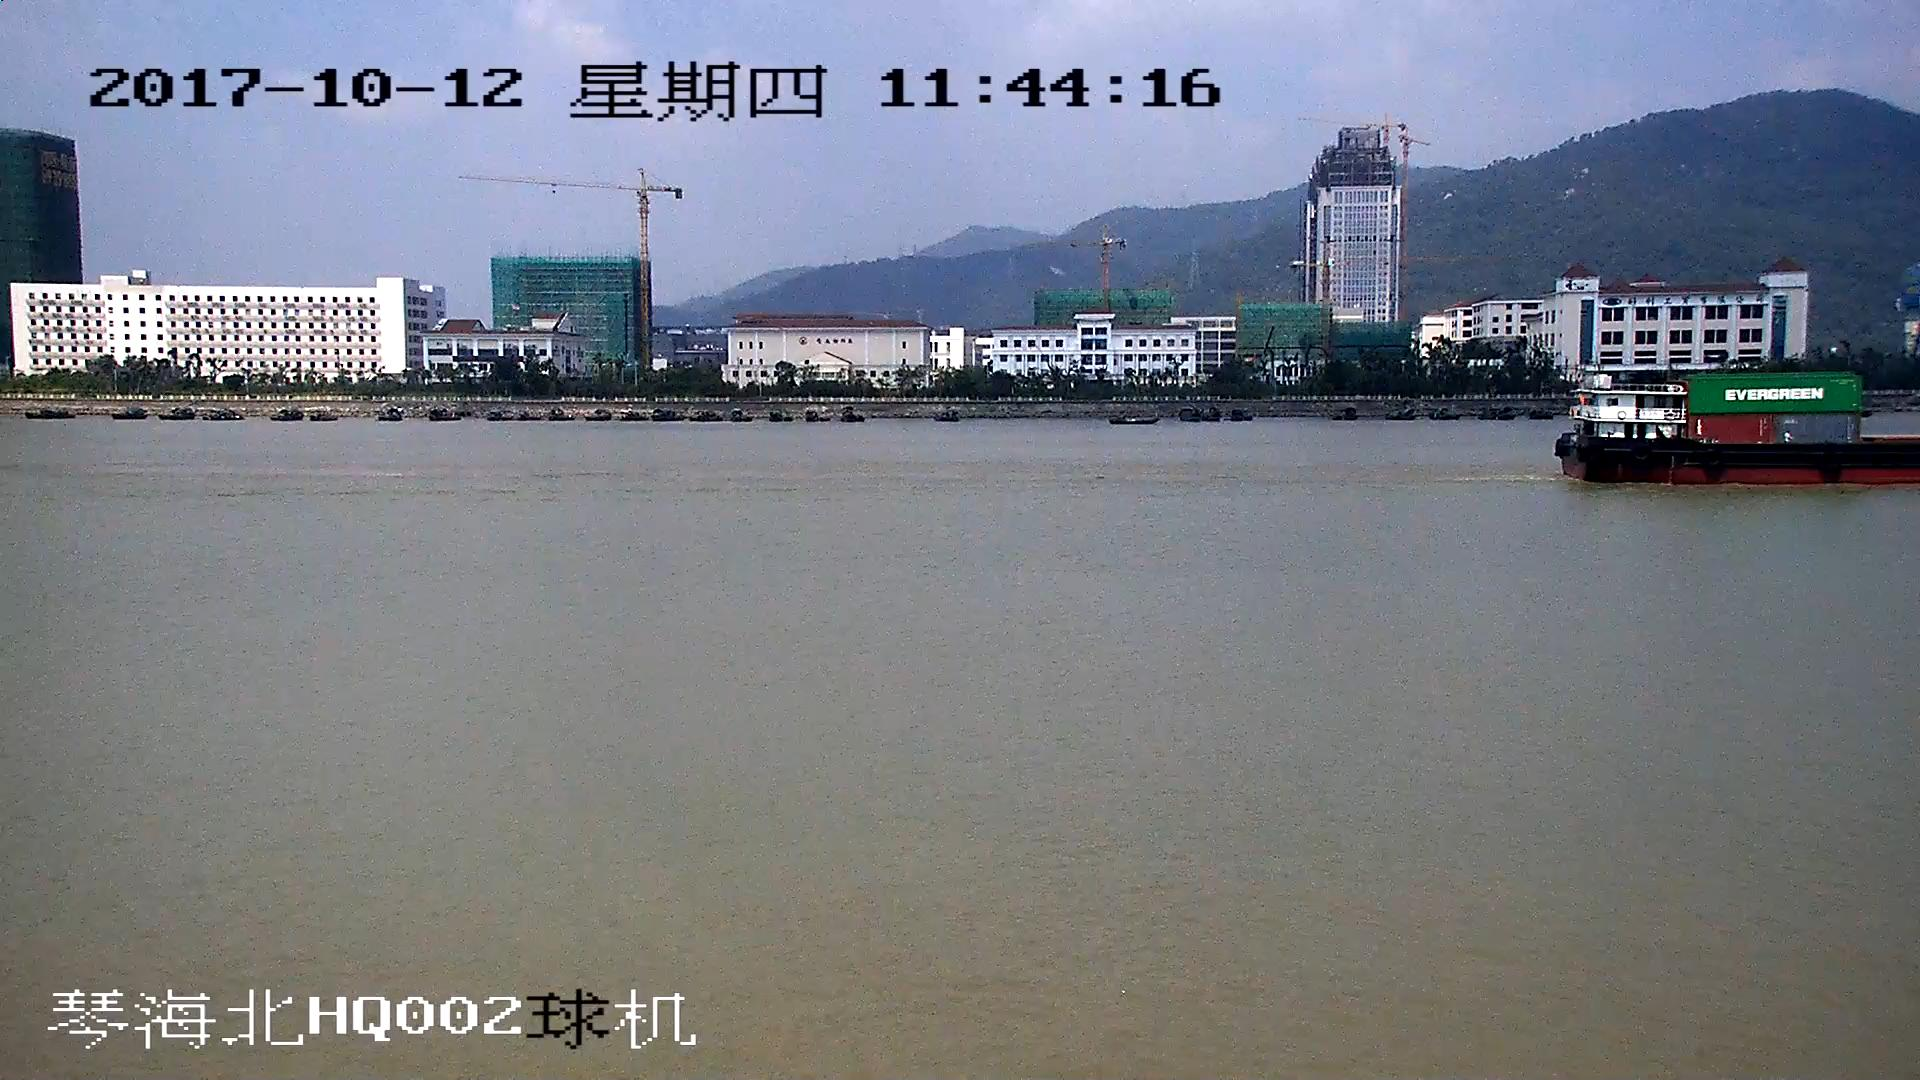container ship: (1562, 381, 1920, 481)
